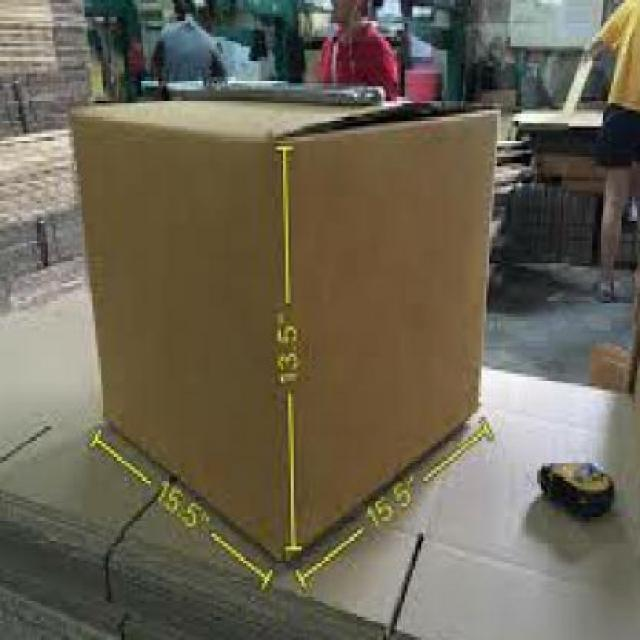-: (69, 88, 530, 559)
